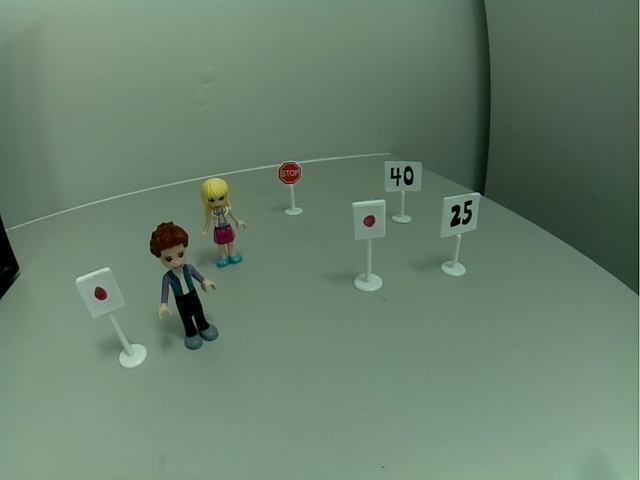people: (147, 220, 223, 352), (193, 175, 252, 268)
red light: (72, 266, 128, 320), (350, 199, 389, 244)
speed 25: (439, 193, 482, 237)
speed 40: (383, 157, 422, 193)
stop: (275, 158, 304, 186)
